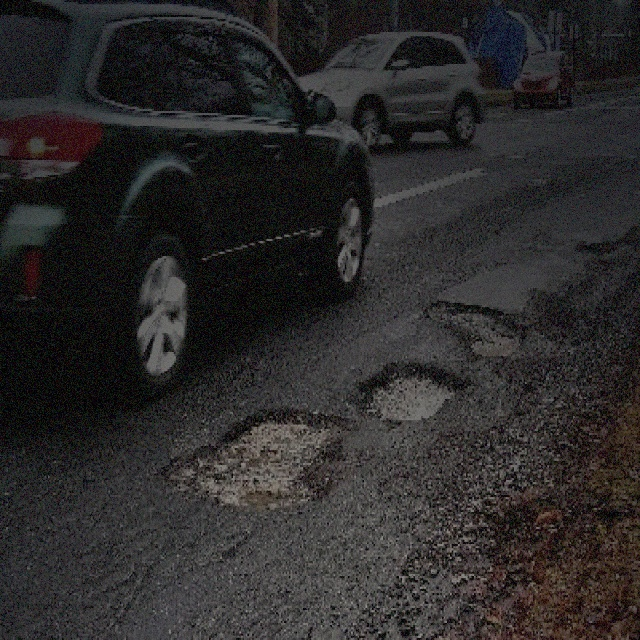pothole: (162, 401, 354, 516), (353, 356, 466, 427), (423, 294, 528, 360)
